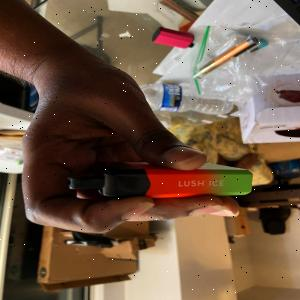Swift-E-Ciggirate: (58, 161, 258, 198)
